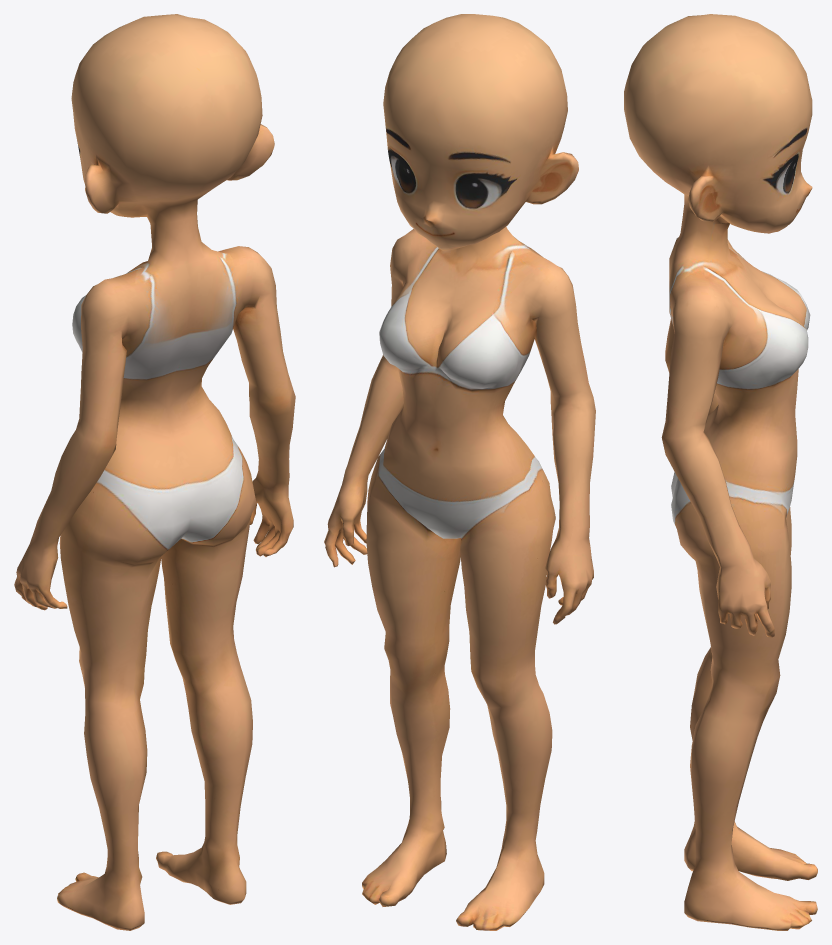
The model's file is FemaleCharacter.glb.
The picture shows the model from 3 angles, left to right: view 1: azimuth 30°, elevation 25°; view 2: azimuth 150°, elevation 25°; view 3: azimuth 270°, elevation 25°; orthographic projection. The views are drawn at different scales.
Visible parts, largest first — view 1: tripo_node_f9353553-cf9a-4a32-ac47-5913595eaa42; view 2: tripo_node_f9353553-cf9a-4a32-ac47-5913595eaa42; view 3: tripo_node_f9353553-cf9a-4a32-ac47-5913595eaa42.
Part boxes in pixels (box(x1,y1,x2,y2)): tripo_node_f9353553-cf9a-4a32-ac47-5913595eaa42: box(14, 14, 295, 930); tripo_node_f9353553-cf9a-4a32-ac47-5913595eaa42: box(324, 14, 595, 930); tripo_node_f9353553-cf9a-4a32-ac47-5913595eaa42: box(624, 14, 817, 930).
Bounding box in the file's own units: 0.3578 × 1.15 × 0.2318.
1 material, 1 textured.
